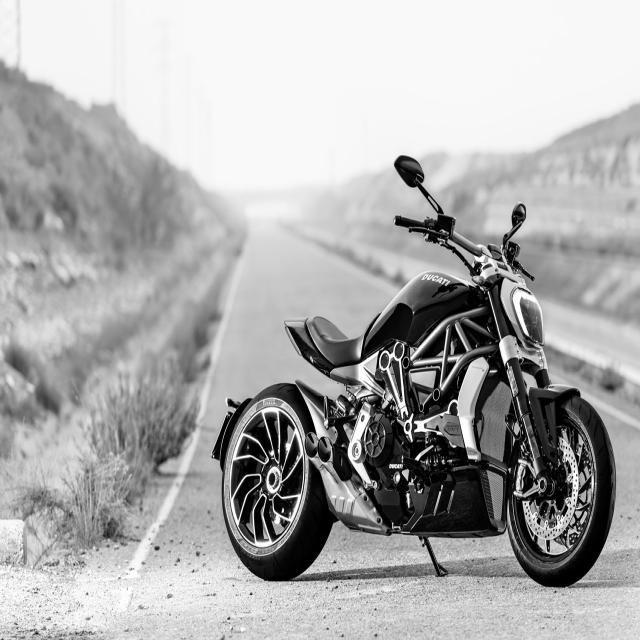MOTORCYCLE: (220, 248, 614, 580)
